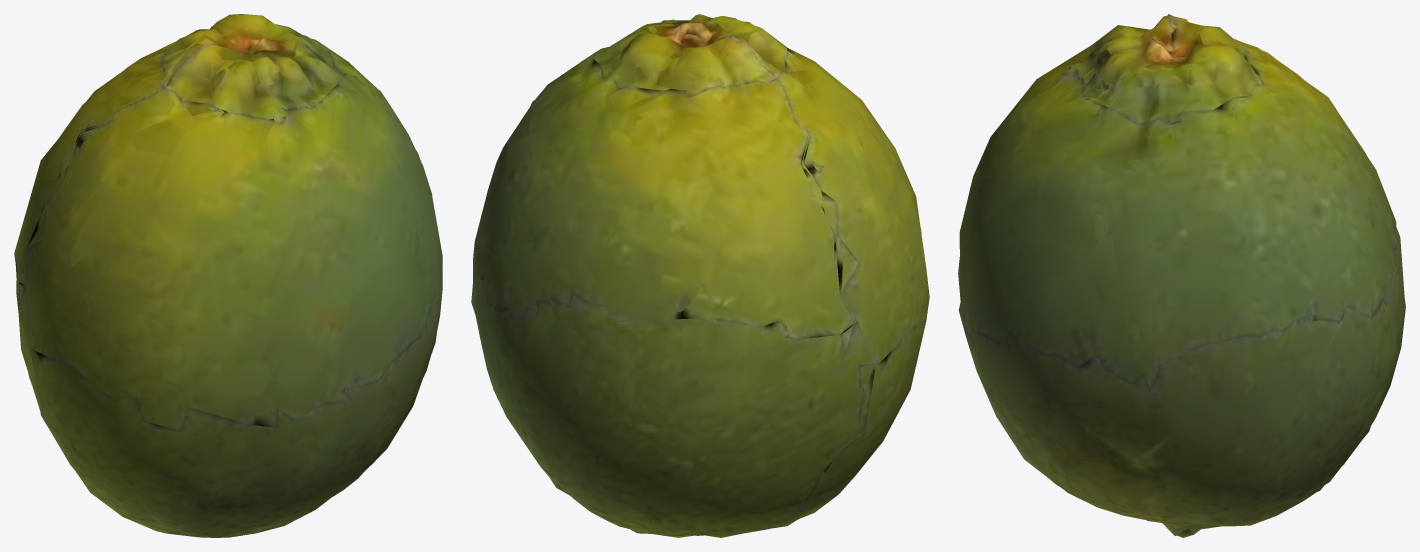
File: imp-limes.glb
3 renders of one model, left to right at view 1: azimuth 30°, elevation 25°; view 2: azimuth 150°, elevation 25°; view 3: azimuth 270°, elevation 25°, orthographic.
Parts seen in each view (by area): view 1: food_lime_01 (×3); view 2: food_lime_01 (×3); view 3: food_lime_01 (×3).
Part boxes in pixels (box(x1,y1,x2,y2)): food_lime_01 (×3): box(14, 14, 442, 537); food_lime_01 (×3): box(471, 14, 929, 537); food_lime_01 (×3): box(958, 14, 1405, 537).
Size of the model in its own units: 0.0437 by 0.055 by 0.0447.
Materials: 1 (1 with a texture image).
